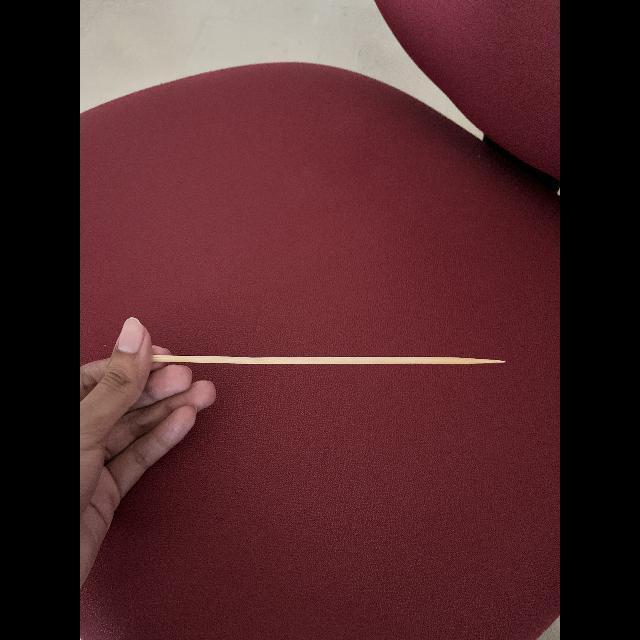stick: (148, 344, 506, 370)
